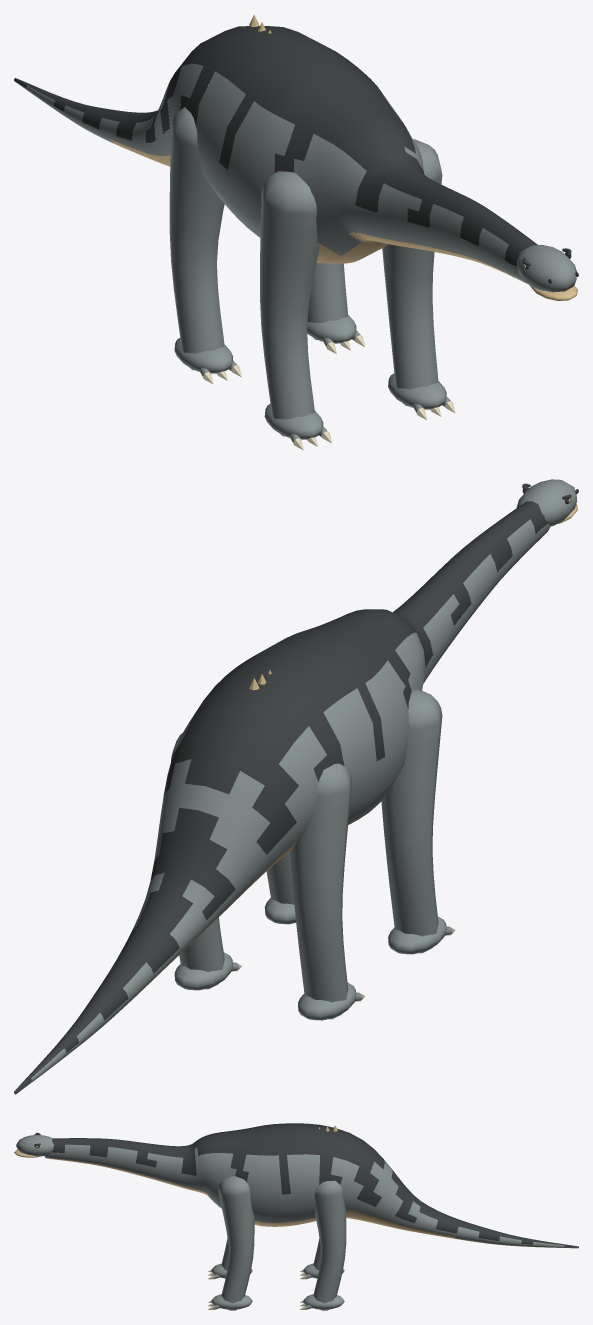
Rendered from primeval-frontier-diplodocus-98c5f0db__1724.glb.
3 renders of one model, top to bottom at view 1: azimuth 30°, elevation 25°; view 2: azimuth 150°, elevation 25°; view 3: azimuth 270°, elevation 25°, orthographic. The views are drawn at different scales.
Parts seen in each view (by area): view 1: diplodocus; view 2: diplodocus; view 3: diplodocus.
Boxes of the visible parts, x1=… form: diplodocus: x1=14, y1=14, x2=578, y2=450; diplodocus: x1=14, y1=479, x2=578, y2=1094; diplodocus: x1=14, y1=1123, x2=578, y2=1310.
Size of the model in its own units: 3.29 by 6.02 by 18.2.
